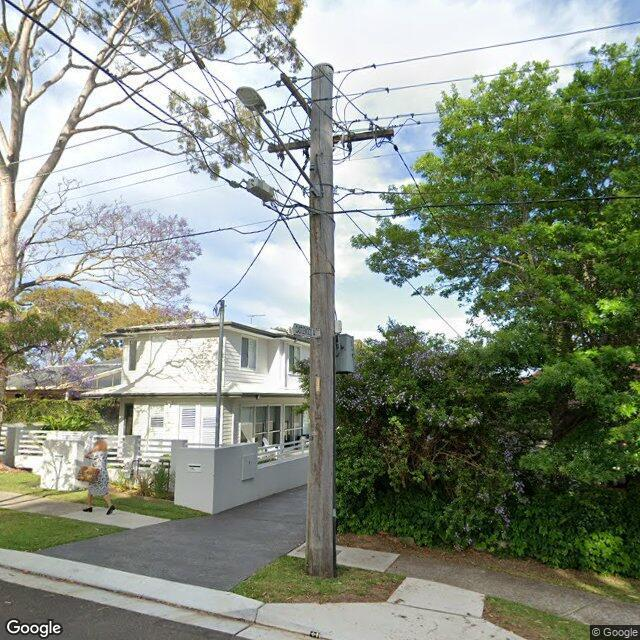crossarm: (266, 128, 394, 155), (280, 72, 312, 120)
steel-pole: (213, 300, 224, 448)
timber-pole: (309, 59, 333, 574)
